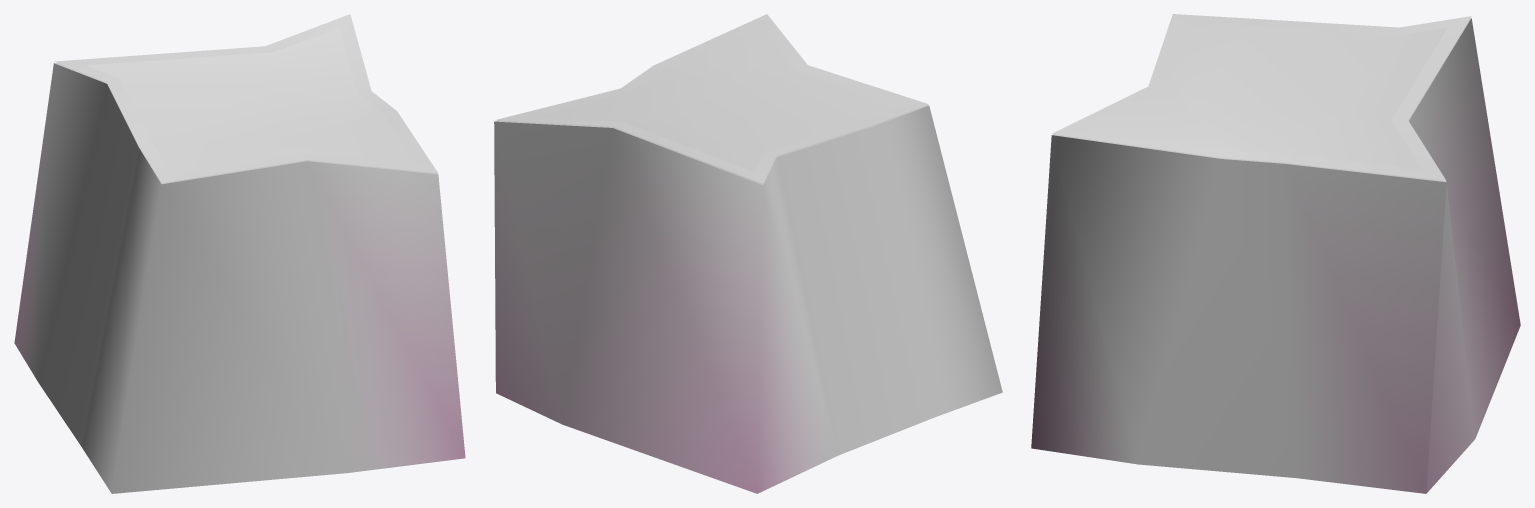
The model's file is BeackRock_02.fbx.
3 renders of one model, left to right at view 1: azimuth 30°, elevation 25°; view 2: azimuth 150°, elevation 25°; view 3: azimuth 270°, elevation 25°, orthographic. The views are drawn at different scales.
Parts seen in each view (by area): view 1: Rock.001, SandTopper.001; view 2: Rock.001, SandTopper.001; view 3: Rock.001, SandTopper.001.
Boxes of the visible parts, box(x1,y1,x2,y2) form: Rock.001: box(14, 63, 465, 493); SandTopper.001: box(54, 14, 437, 182); Rock.001: box(494, 105, 1002, 493); SandTopper.001: box(495, 14, 928, 183); Rock.001: box(1031, 18, 1520, 493); SandTopper.001: box(1052, 14, 1471, 180).
Bounding box in the file's own units: 1018 × 756 × 1036.
